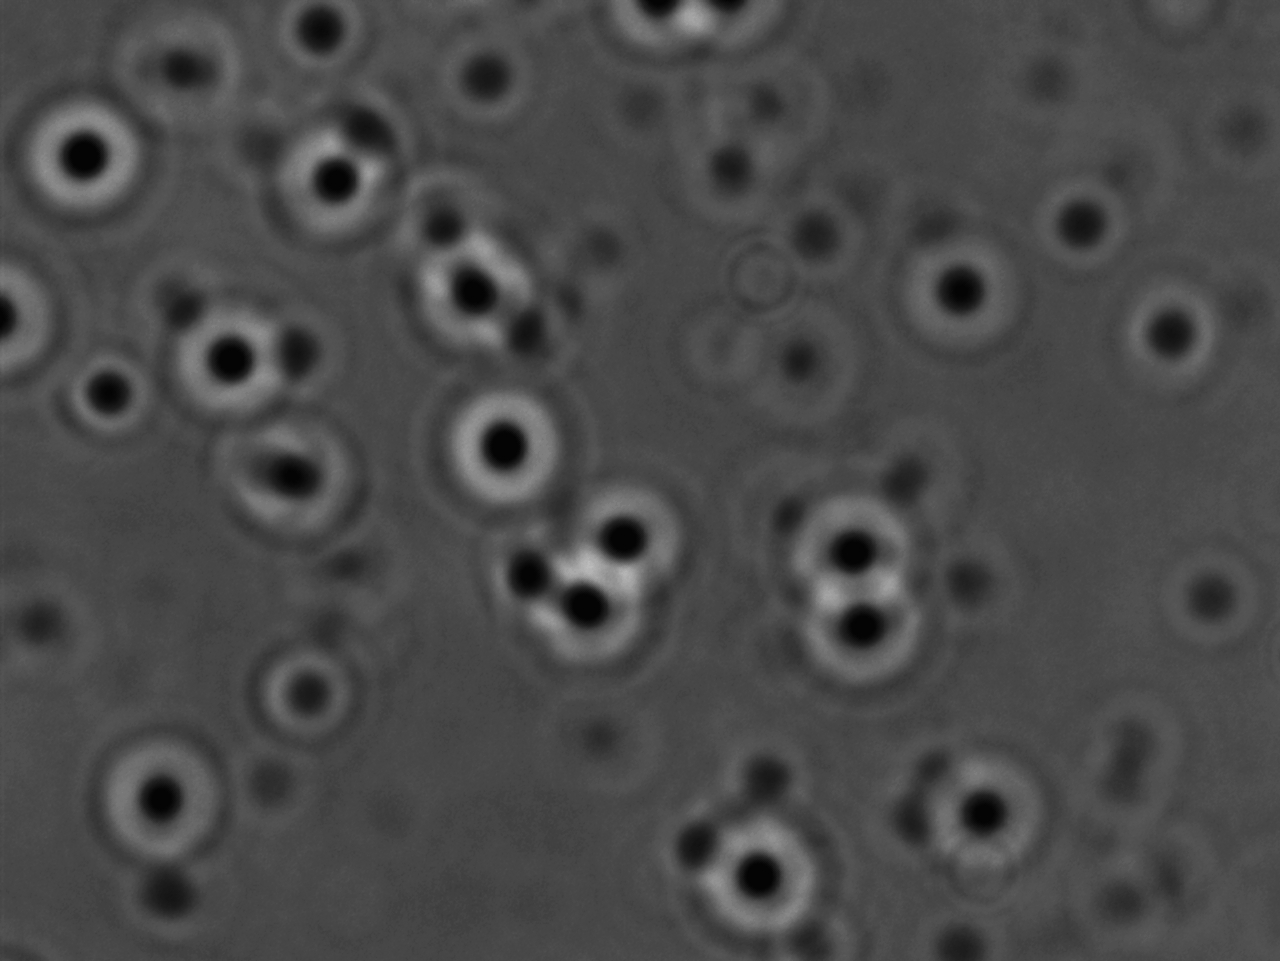depth:-32: (757, 452, 946, 620), (191, 408, 376, 569), (86, 716, 251, 880), (418, 363, 573, 517), (801, 561, 957, 705), (676, 812, 838, 948), (19, 88, 161, 235), (153, 302, 302, 441), (891, 219, 1025, 369), (519, 545, 660, 682), (903, 747, 1040, 888), (566, 465, 689, 608), (253, 125, 391, 251)
